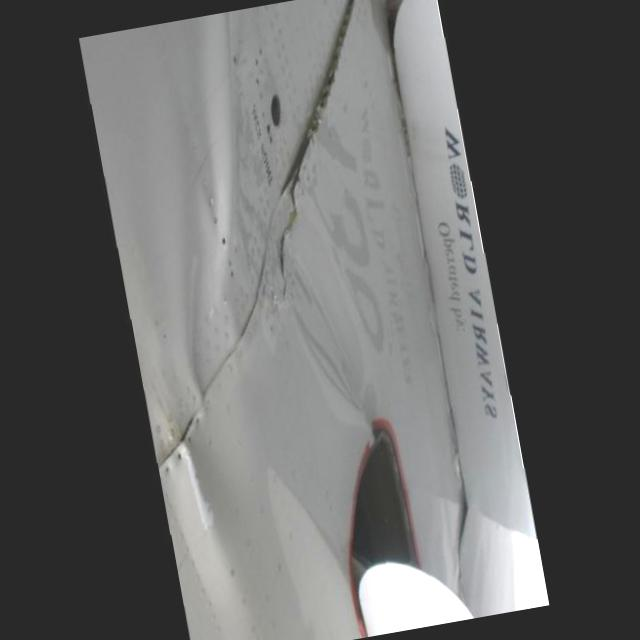crack: (252, 152, 326, 304)
